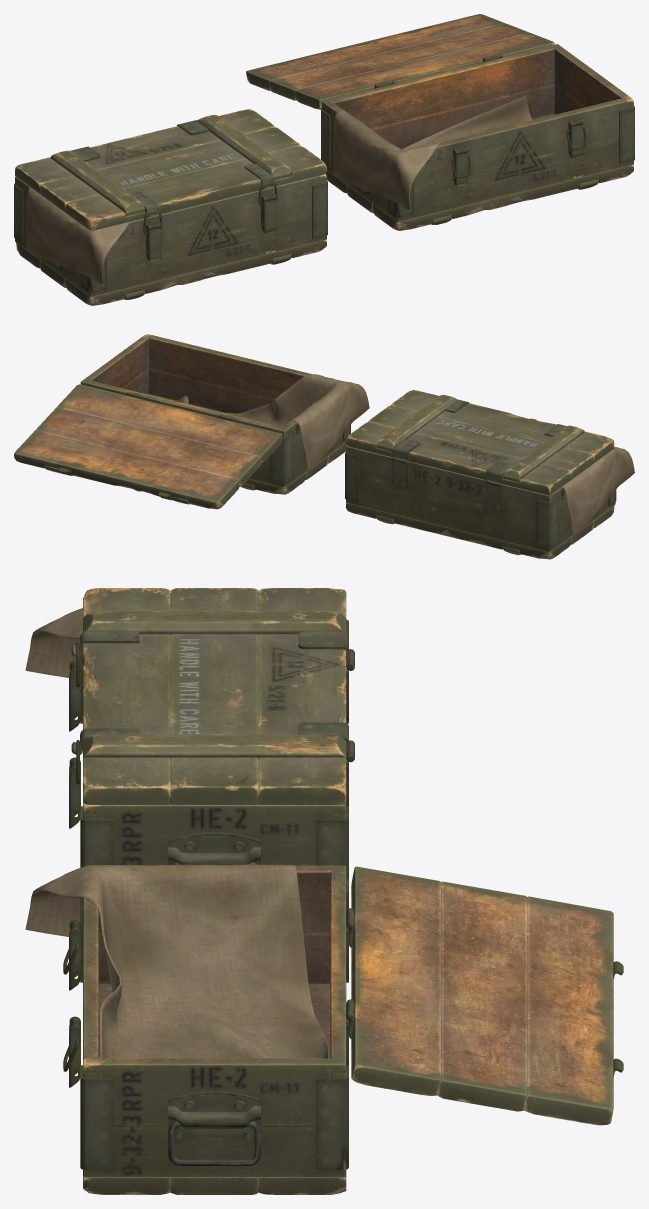
File: old_military_crate.glb
3 views of the same model, one above another, from view 1: azimuth 30°, elevation 25°; view 2: azimuth 150°, elevation 25°; view 3: azimuth 270°, elevation 25° (orthographic). The views are drawn at different scales.
Visible parts, largest first — view 1: old_military_crate_b, old_military_crate_lid_a, old_military_crate_a, old_military_crate_lid_b, old_military_crate_cloth_b, old_military_crate_cloth_a, old_military_crate_latch_a, old_military_crate_latch_b; view 2: old_military_crate_lid_b, old_military_crate_lid_a, old_military_crate_a, old_military_crate_b, old_military_crate_cloth_b, old_military_crate_cloth_a; view 3: old_military_crate_lid_a, old_military_crate_lid_b, old_military_crate_b, old_military_crate_cloth_b, old_military_crate_a, old_military_crate_cloth_a, old_military_crate_latch_b, old_military_crate_latch_a.
Boxes of the visible parts, x1,y1,x2,y2 form: old_military_crate_b: (321,44,634,230); old_military_crate_lid_a: (15,109,326,230); old_military_crate_a: (14,174,327,305); old_military_crate_lid_b: (246,14,555,109); old_military_crate_cloth_b: (333,95,532,209); old_military_crate_cloth_a: (26,187,129,284); old_military_crate_latch_a: (146,194,276,261); old_military_crate_latch_b: (453,119,583,186); old_military_crate_lid_b: (14,384,282,509); old_military_crate_lid_a: (346,390,614,495); old_military_crate_a: (345,446,616,559); old_military_crate_b: (80,334,350,494); old_military_crate_cloth_b: (174,374,369,470); old_military_crate_cloth_a: (562,447,634,535); old_military_crate_lid_a: (71,588,354,804); old_military_crate_lid_b: (346,866,623,1125); old_military_crate_b: (80,865,354,1194); old_military_crate_cloth_b: (25,864,329,1058); old_military_crate_a: (80,619,354,879); old_military_crate_cloth_a: (25,608,82,677); old_military_crate_latch_b: (69,919,80,1087); old_military_crate_latch_a: (69,660,80,828).
Bounding box in the file's own units: 1.82 × 0.301 × 0.9757.
Materials: 1 (1 with a texture image).
